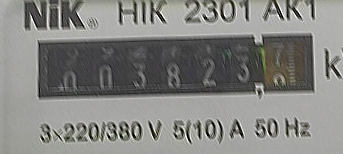0: (91, 61, 112, 89), (57, 66, 76, 90)
2: (196, 55, 216, 87)
3: (231, 52, 250, 83), (127, 59, 146, 88)
7: (267, 41, 285, 69)
8: (161, 59, 179, 88)
9: (58, 45, 77, 65)
screen: (26, 25, 317, 107)
